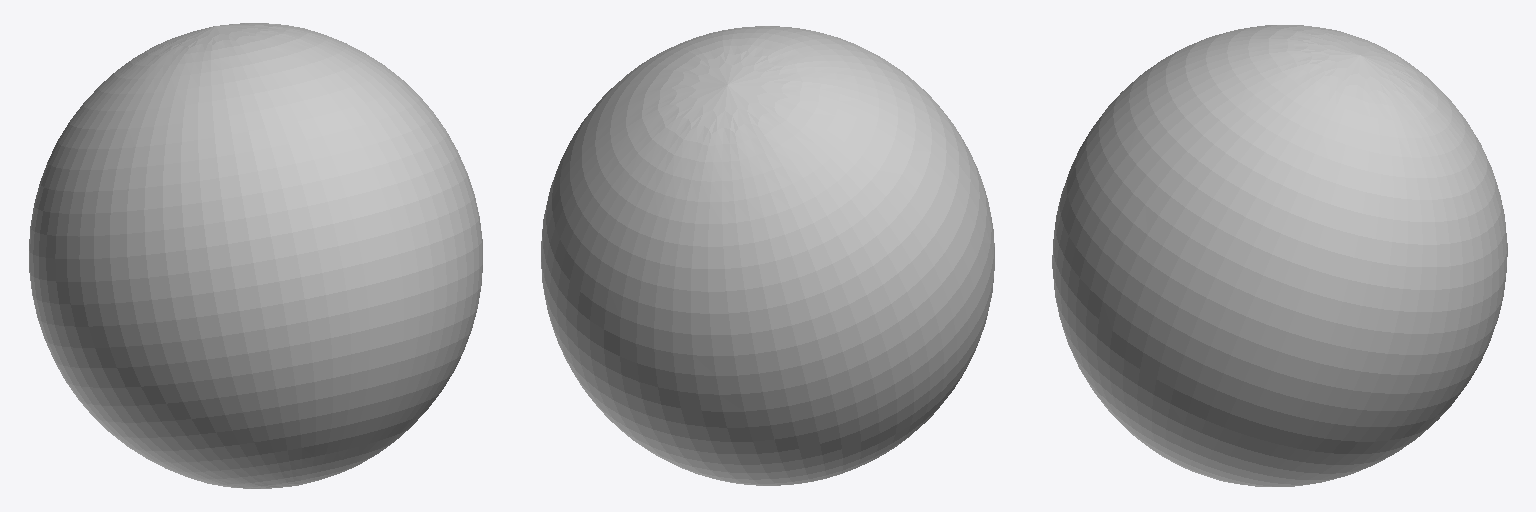
Rendered from ball1.obj.
The picture shows the model from 3 angles: view 1: azimuth 30°, elevation 25°; view 2: azimuth 150°, elevation 25°; view 3: azimuth 270°, elevation 25°; orthographic projection.
Parts seen in each view (by area): view 1: Sphere01.013; view 2: Sphere01.013; view 3: Sphere01.013.
Boxes of the visible parts, x1=… form: Sphere01.013: x1=29, y1=23, x2=482, y2=488; Sphere01.013: x1=541, y1=26, x2=994, y2=485; Sphere01.013: x1=1052, y1=25, x2=1507, y2=486.
Size of the model in its own units: 5.45 by 5.58 by 5.46.